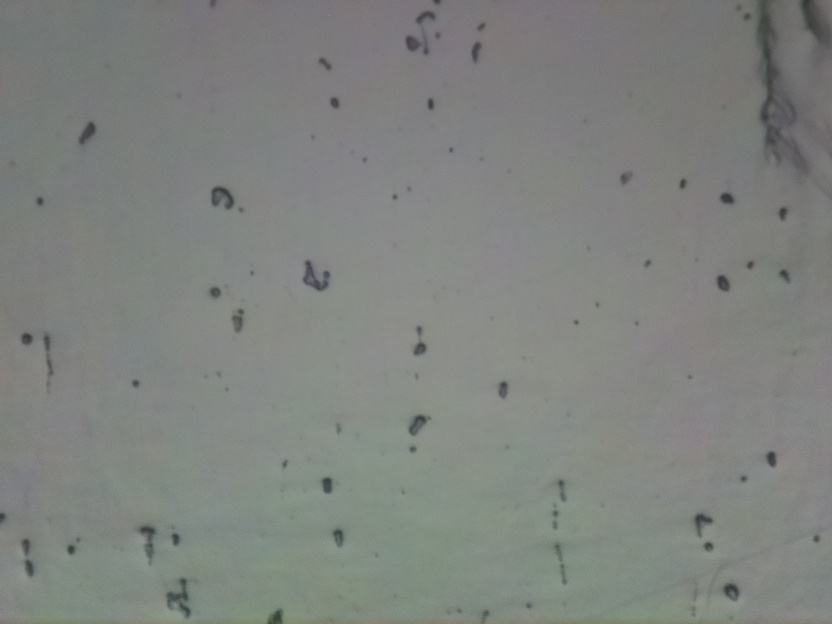crack: (741, 0, 803, 160)
